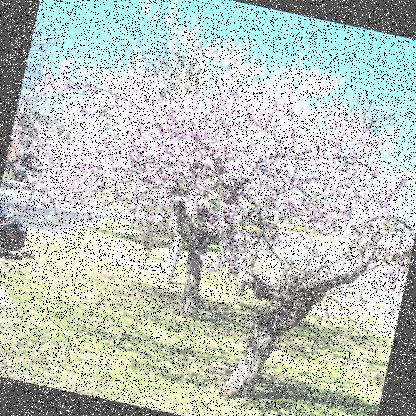Car: (0, 208, 31, 262)
